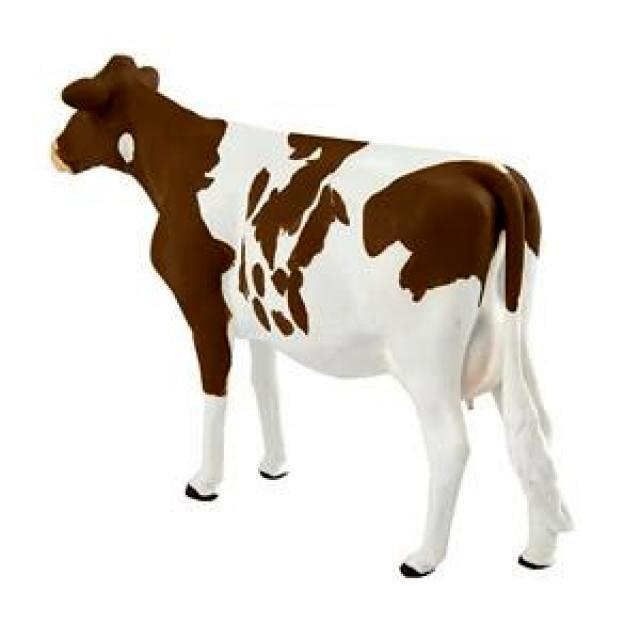COW: (51, 56, 570, 577)
